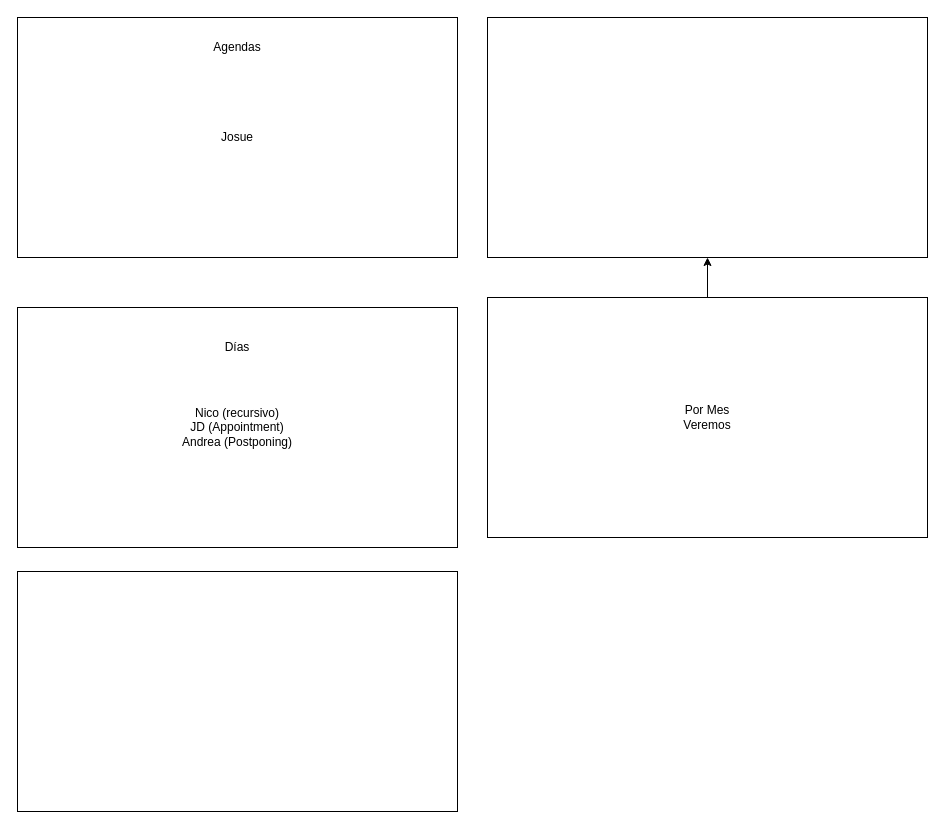
This 945x829 diagram has some shape labels left out. The shapes that lost their labels are listed below. From the top down, each one's centre as x and y in pixels, then its label:
At [707,137]: "General Veremos".
At [237,691]: "Participantes Pablo".
